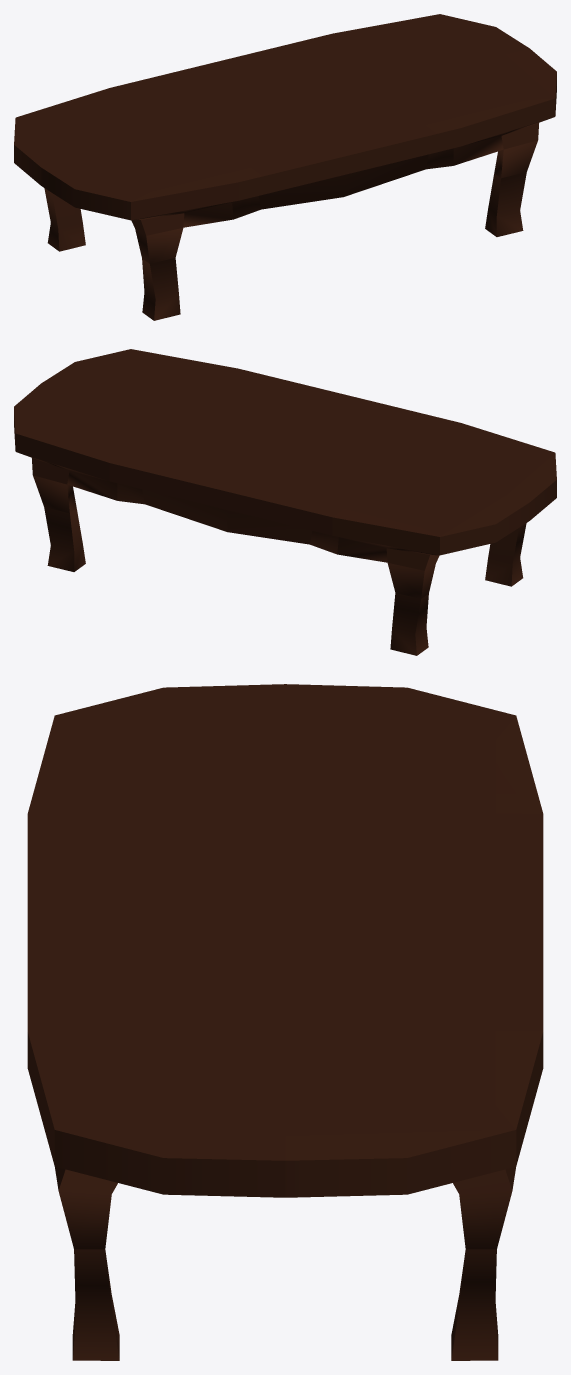
The model's file is coffee_table.fbx.
3 renders of one model, top to bottom at view 1: azimuth 30°, elevation 25°; view 2: azimuth 150°, elevation 25°; view 3: azimuth 270°, elevation 25°, orthographic. The views are drawn at different scales.
Parts seen in each view (by area): view 1: coffee_table; view 2: coffee_table; view 3: coffee_table.
Boxes of the visible parts, x1,y1,x2,y2 form: coffee_table: (14, 14, 556, 320); coffee_table: (14, 349, 556, 655); coffee_table: (27, 684, 543, 1360).
Bounding box in the file's own units: 187 × 47.2 × 85.37.
